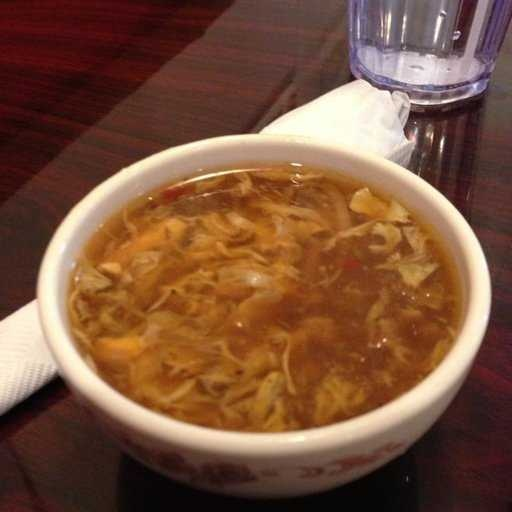soup: (36, 127, 481, 470)
